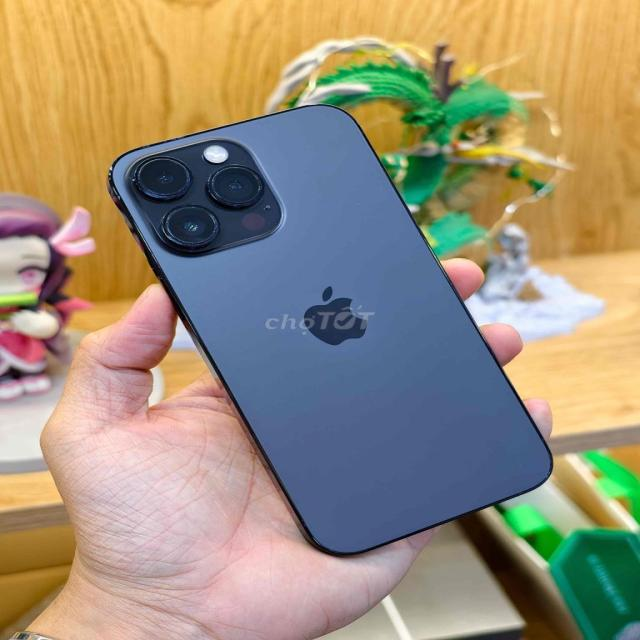gen_14: (111, 103, 553, 572)
